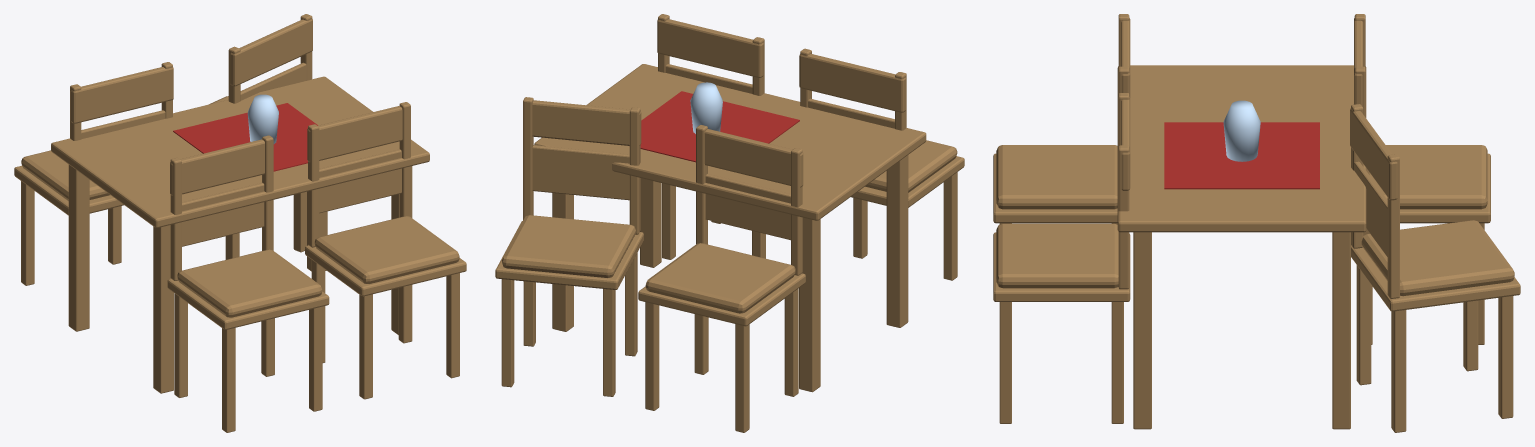
File: kitchen_table.glb
3 renders of one model, left to right at view 1: azimuth 30°, elevation 25°; view 2: azimuth 150°, elevation 25°; view 3: azimuth 270°, elevation 25°, orthographic. The views are drawn at different scales.
Parts seen in each view (by area): view 1: kitchen_table; view 2: kitchen_table; view 3: kitchen_table.
Boxes of the visible parts, x1,y1,x2,y2 form: kitchen_table: [14, 14, 466, 432]; kitchen_table: [495, 14, 964, 432]; kitchen_table: [993, 14, 1520, 432].
Size of the model in its own units: 1.2 by 0.98 by 1.7.
